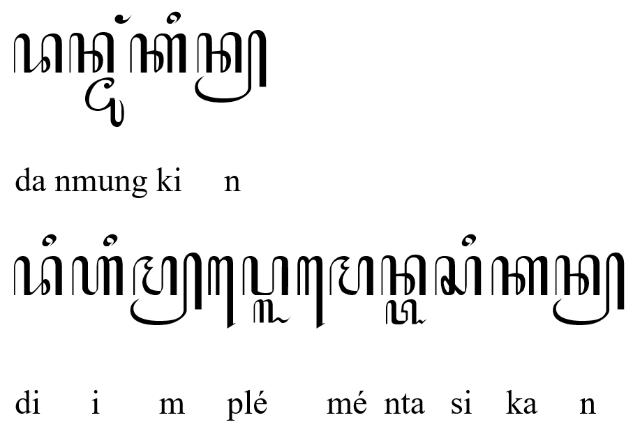-m: (130, 252, 203, 326)
-n: (552, 250, 626, 326), (195, 28, 268, 104)
_l: (252, 299, 292, 323)
_mu: (84, 76, 124, 128)
_t: (386, 298, 426, 326)
d: (13, 33, 63, 75), (12, 256, 64, 296)
e1: (207, 254, 236, 329), (297, 255, 325, 329)
h: (71, 256, 125, 296)
i: (41, 233, 57, 247), (103, 234, 119, 248), (166, 11, 180, 25), (462, 233, 476, 247)
k: (129, 32, 187, 76), (490, 255, 548, 297)
m: (328, 256, 374, 296)
n: (380, 255, 428, 297), (68, 32, 114, 74)
ng: (114, 14, 132, 24)
p: (241, 255, 289, 297)
s: (434, 255, 482, 295)
